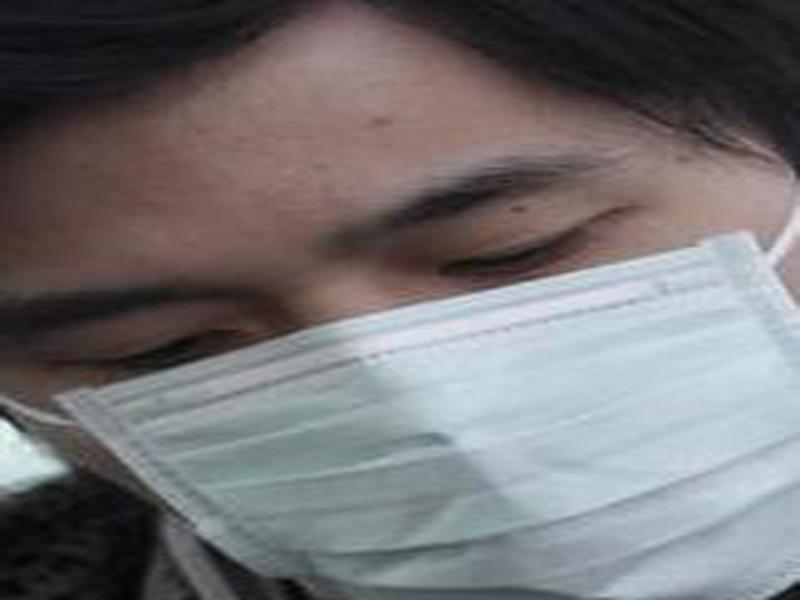with_mask: (5, 5, 798, 596)
